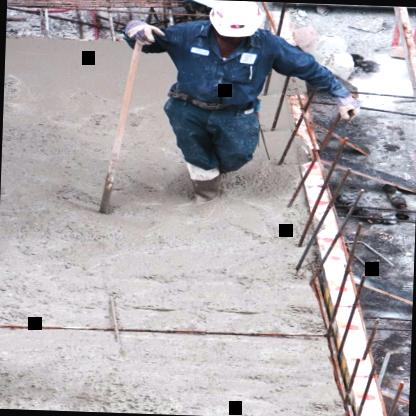helmet: (197, 0, 272, 45)
